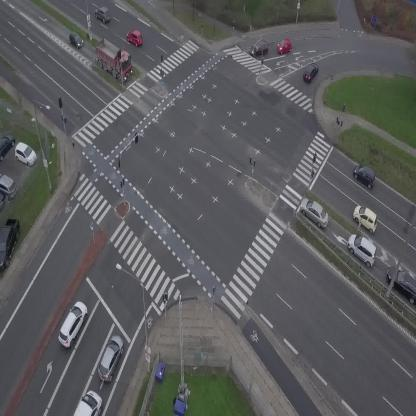car: (53, 299, 92, 350), (94, 333, 128, 384), (342, 229, 384, 269), (295, 194, 334, 230), (349, 201, 384, 234), (350, 162, 379, 188), (64, 29, 85, 52), (124, 27, 145, 47), (301, 61, 320, 83), (275, 38, 293, 55), (94, 5, 110, 24), (249, 42, 268, 56)
lorry: (86, 34, 141, 85), (73, 390, 102, 416)
